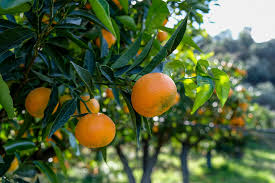orange: (128, 69, 180, 125), (79, 112, 115, 147), (25, 85, 59, 120)
